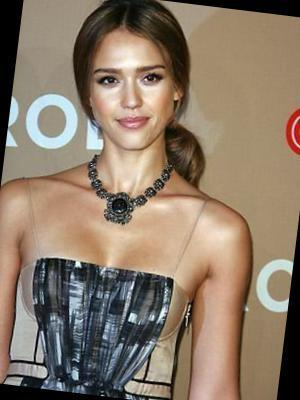Sober: (98, 37, 167, 140)
